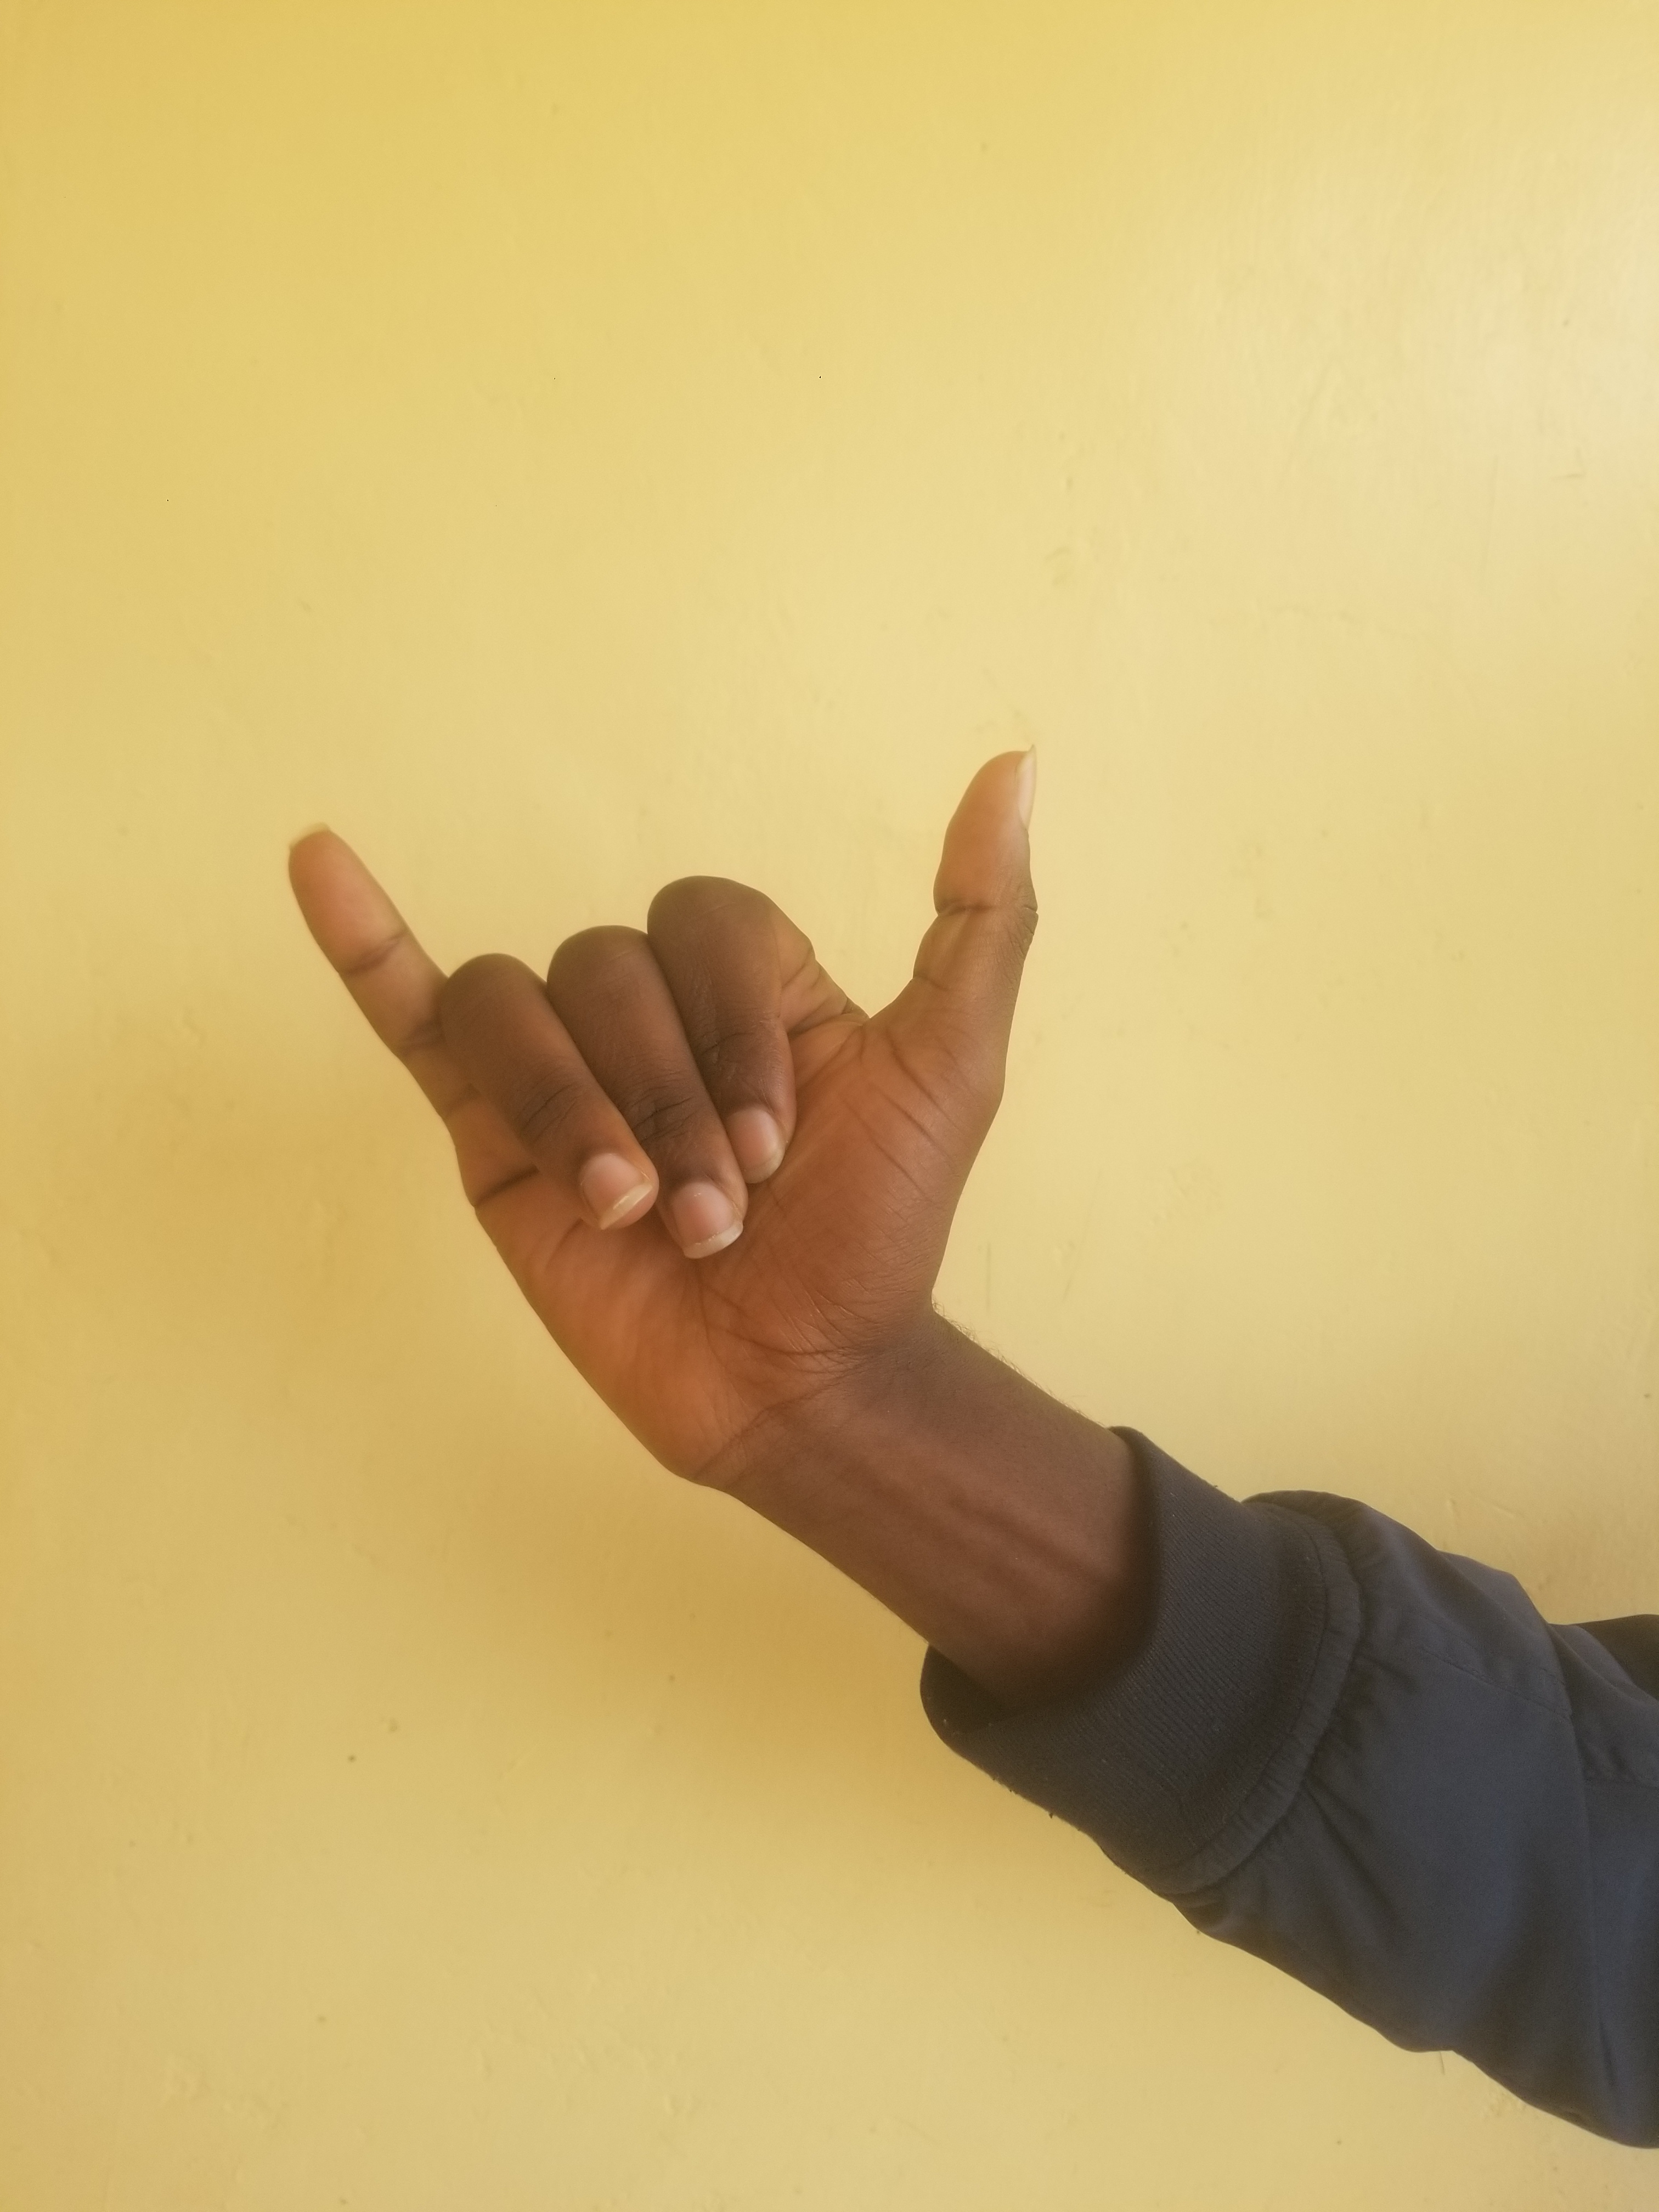call: (247, 519, 1462, 1867)
